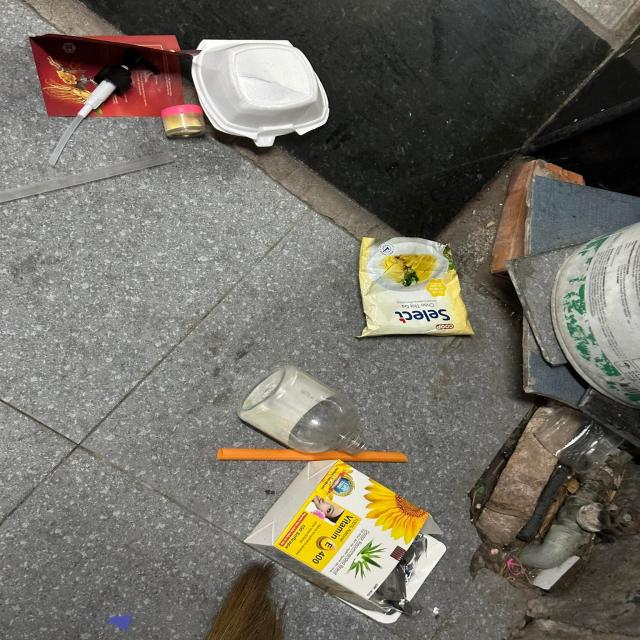bottle: (238, 366, 370, 454)
cardboard box: (244, 458, 447, 624)
drinking straw: (0, 151, 174, 203), (217, 448, 408, 462)
foam box: (191, 39, 329, 147)
paper: (27, 34, 203, 116)
plastic holder: (161, 104, 206, 138)
snack package: (356, 237, 474, 338)
